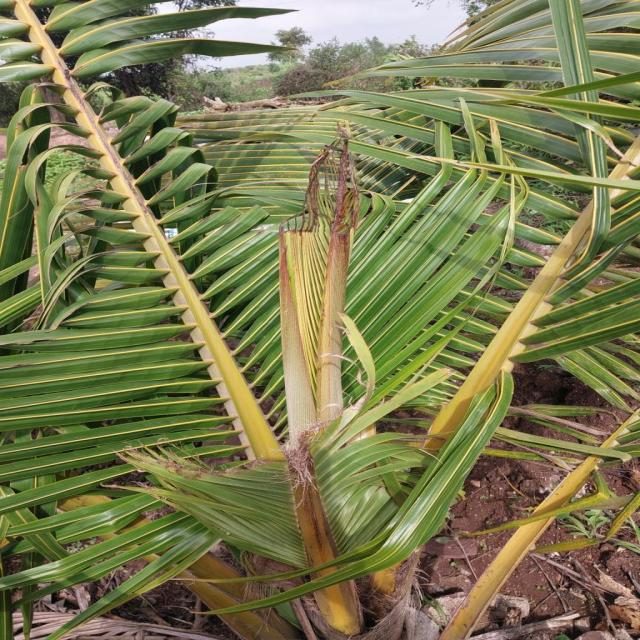bud rot: (278, 136, 358, 566), (315, 581, 363, 634)
